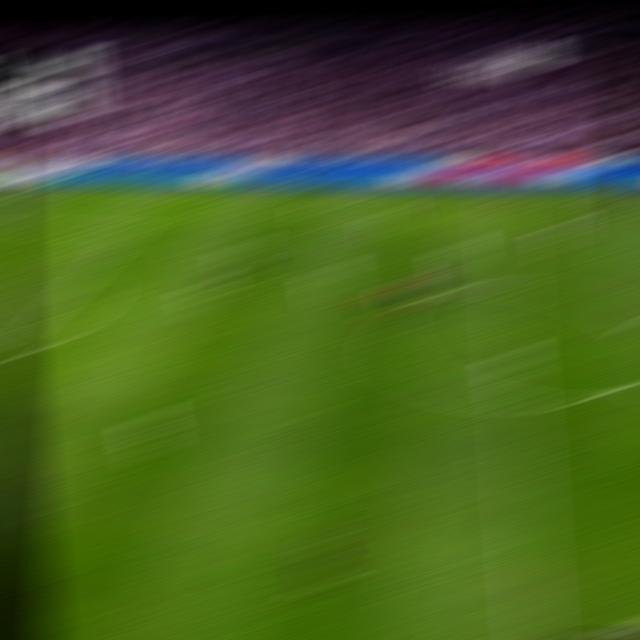bigarea_top_inner: (115, 226, 146, 234)
corner: (19, 182, 51, 187)
halfcircle_bottom: (500, 391, 536, 410)
halfcircle_top: (492, 275, 528, 295)
midline_top_intersection: (488, 187, 519, 195)
top_arc_area_intersection: (64, 275, 95, 285)
